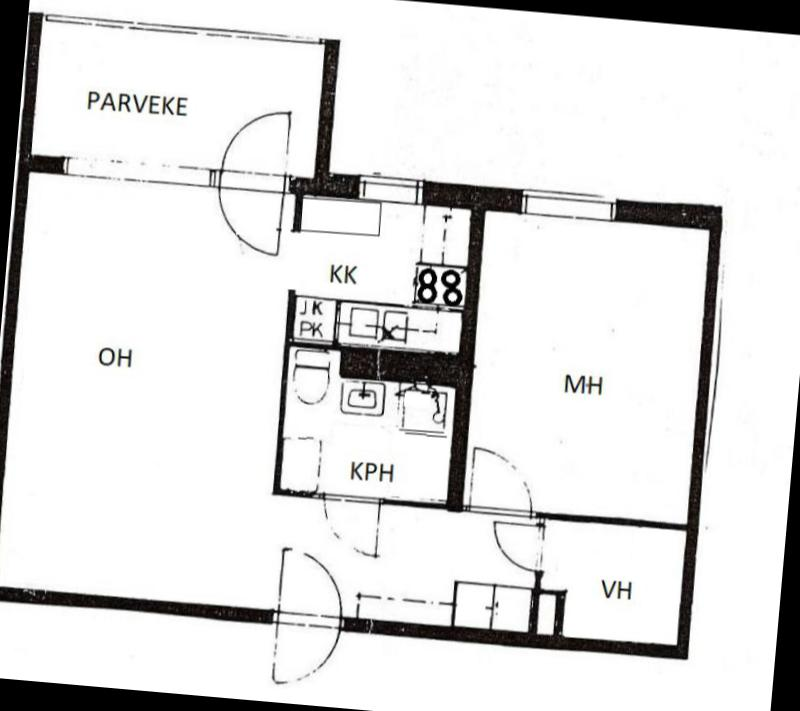door: (210, 168, 294, 258), (216, 100, 299, 190), (270, 540, 350, 630), (264, 604, 344, 690), (464, 440, 538, 520), (316, 488, 390, 561), (486, 514, 550, 577)
window: (52, 146, 220, 200), (510, 182, 630, 230), (344, 166, 438, 210)
